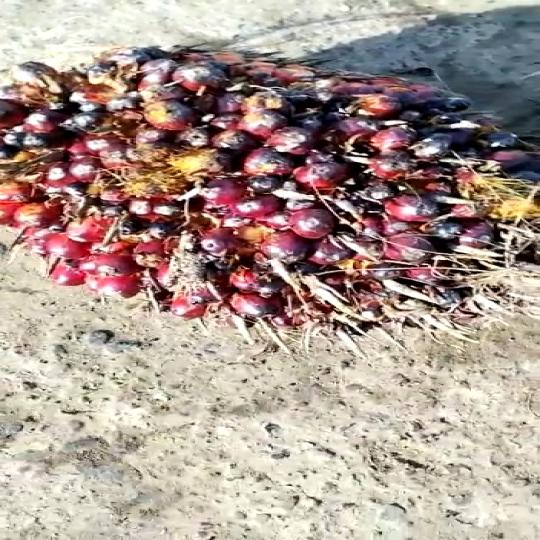masak: (0, 26, 540, 368)
